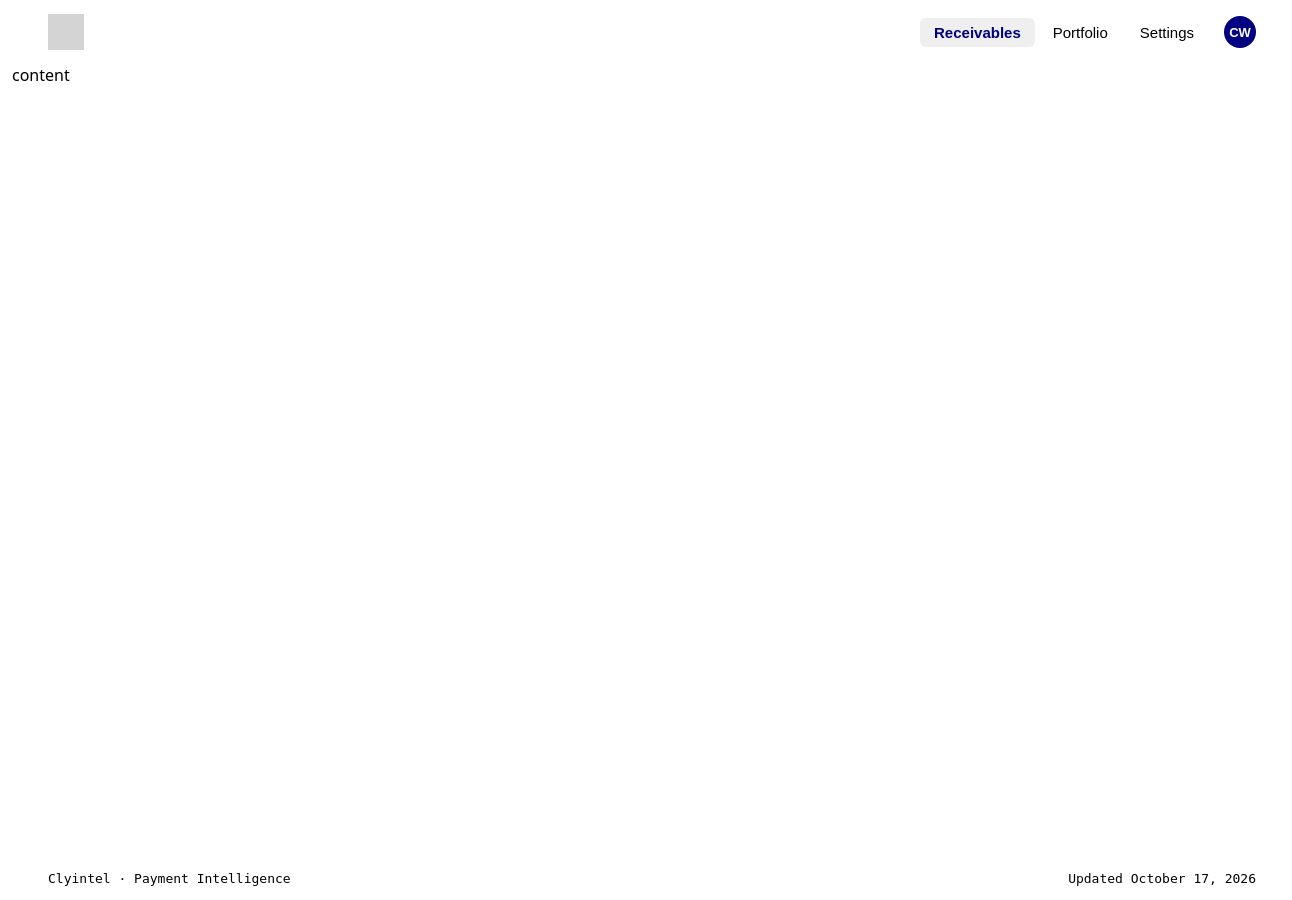
Test case: AppShell — account-menu identity › shows the seeded identity even when the client session has no email
The image size is (1292, 900).
Click the button with aria-label "Account menu" at (1240, 32), box [1224,16,1256,48]
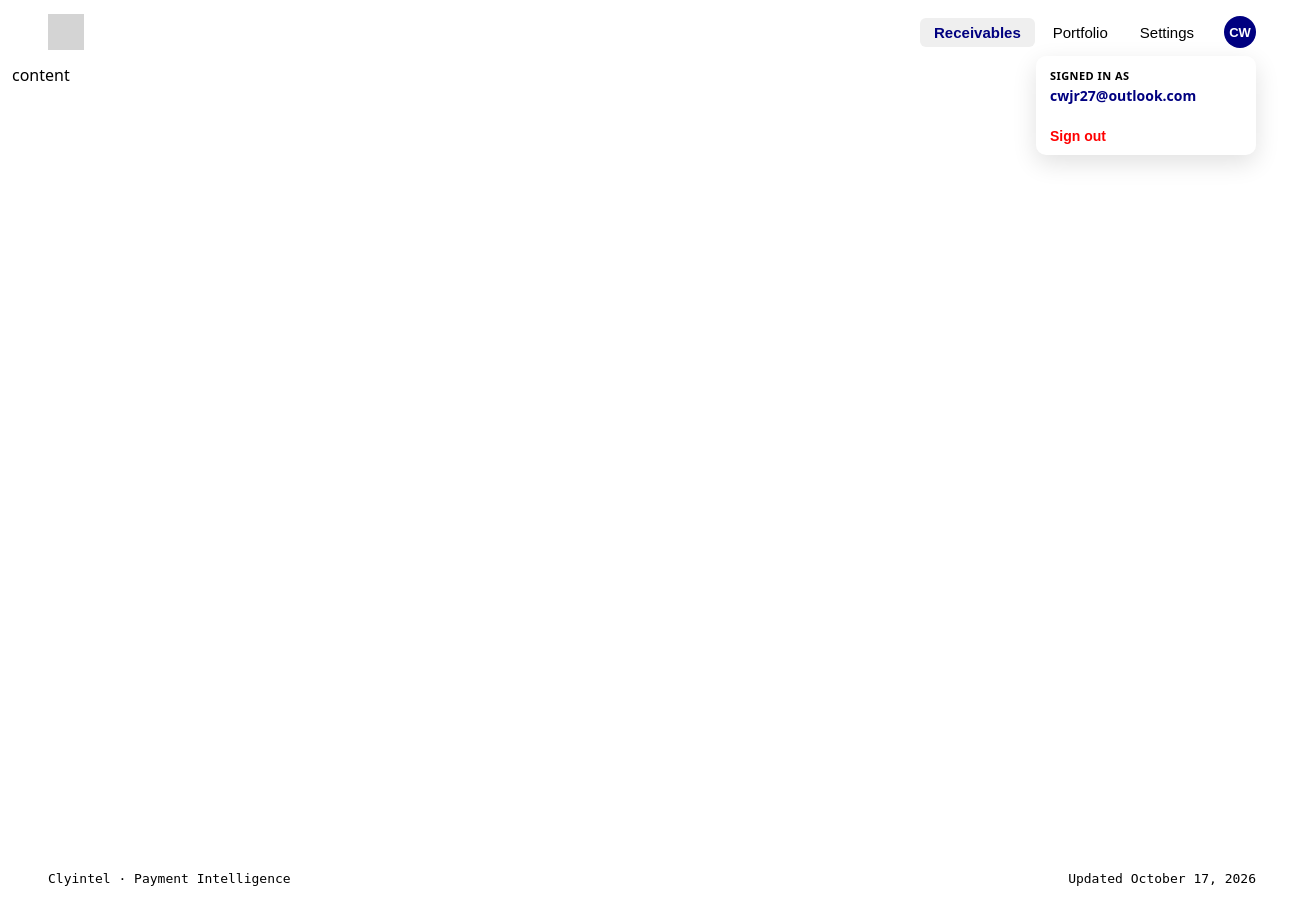
Expected: the text "cwjr27@outlook.com" is shown, [1050,86,1196,105]
